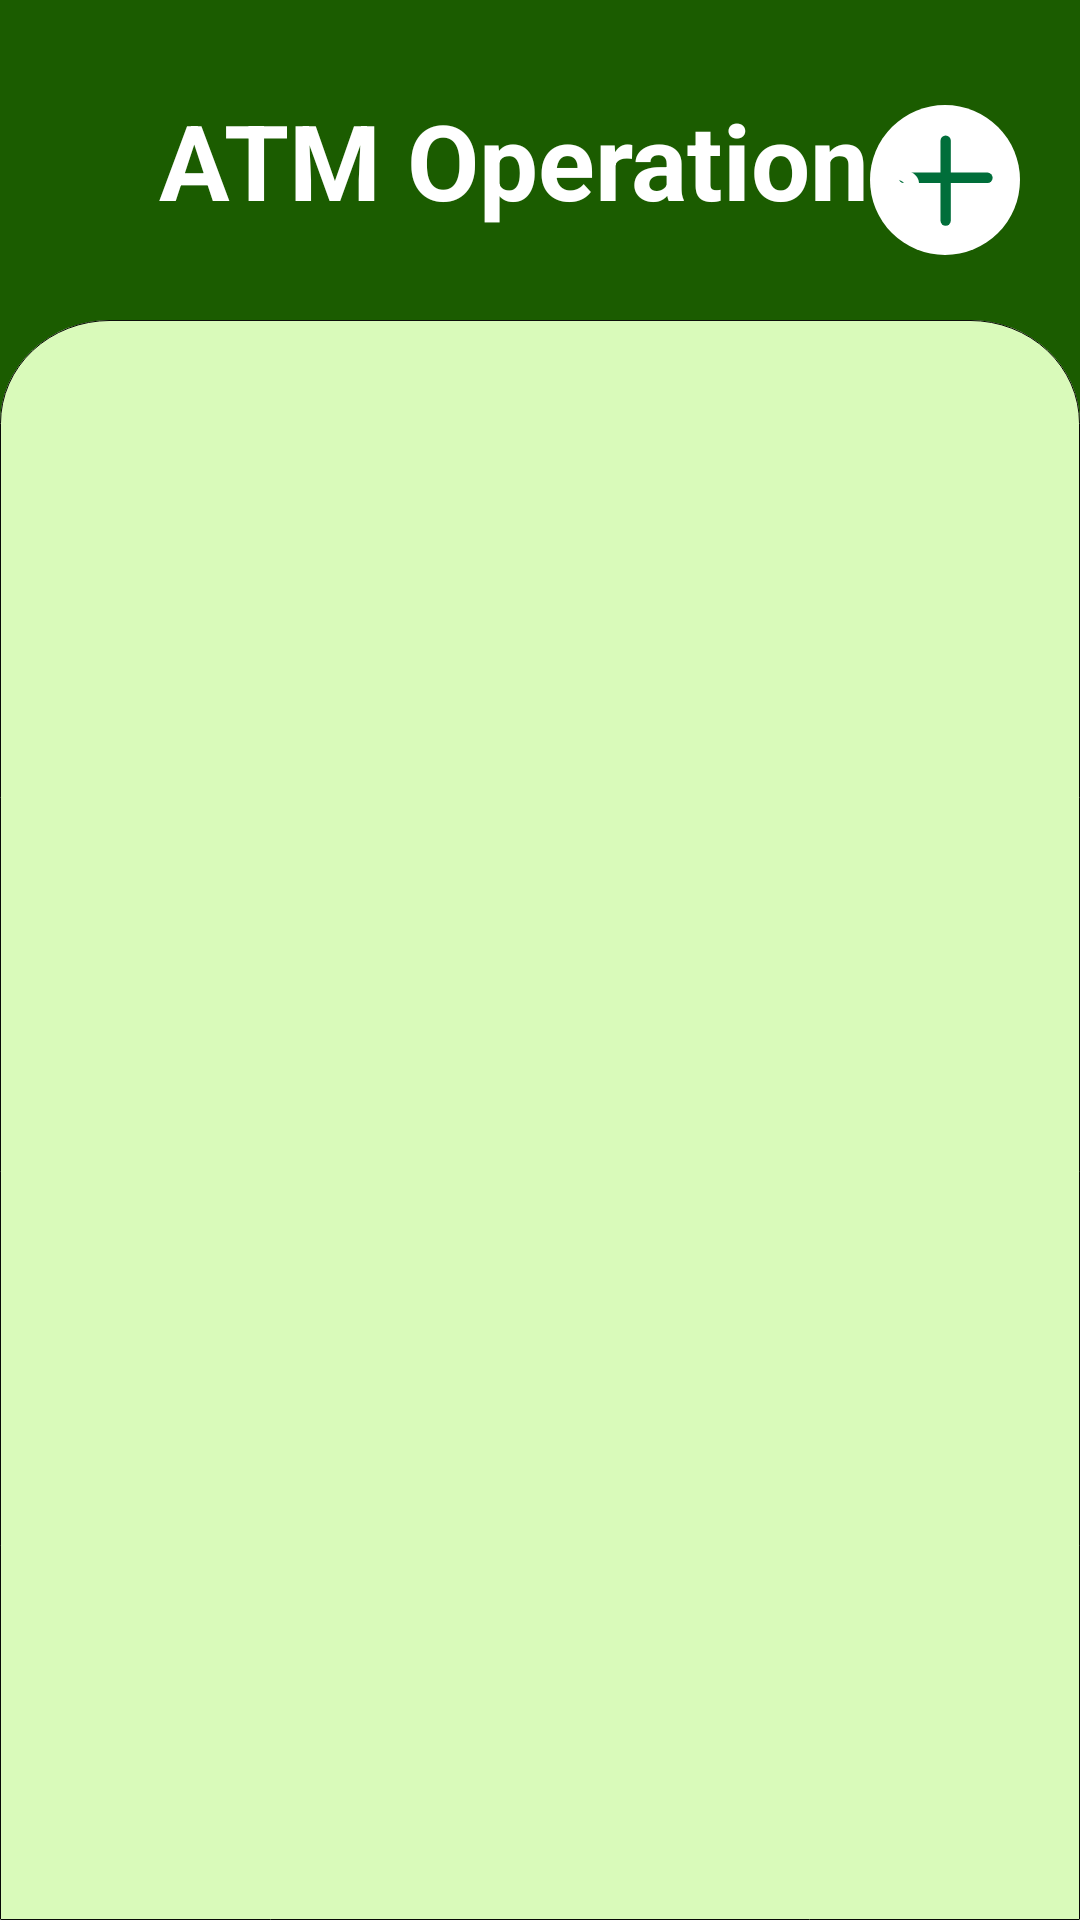

Locate icon controls on the screen. Image size 1080×1920, boxes as bbox=[x1, y1, x2, y2].
add: bbox=[870, 105, 1020, 255]
